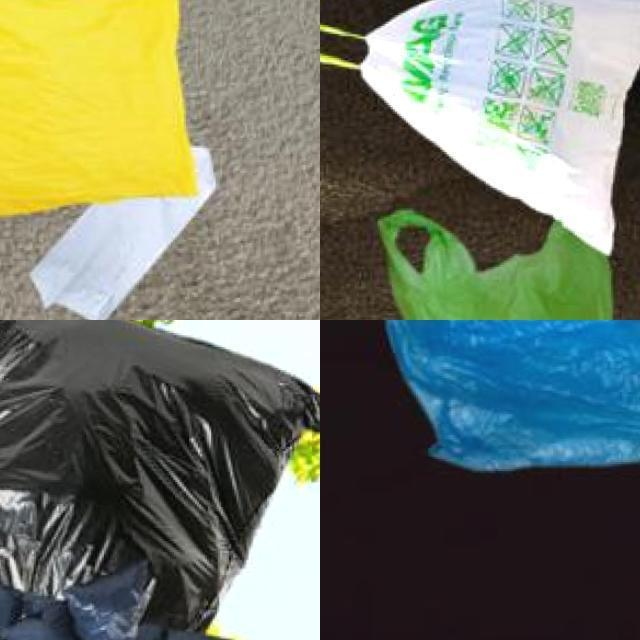waste: (0, 320, 320, 622), (366, 0, 640, 249), (366, 320, 640, 489), (0, 0, 204, 222), (376, 206, 628, 320), (35, 182, 210, 320), (71, 561, 156, 640), (0, 579, 48, 640)
